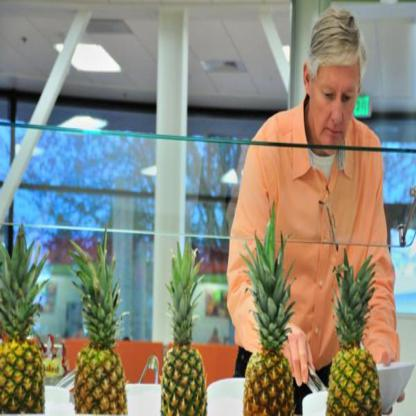Pineapple: (239, 194, 297, 415), (67, 227, 129, 415), (325, 247, 384, 415), (0, 225, 51, 415), (160, 241, 209, 415)
